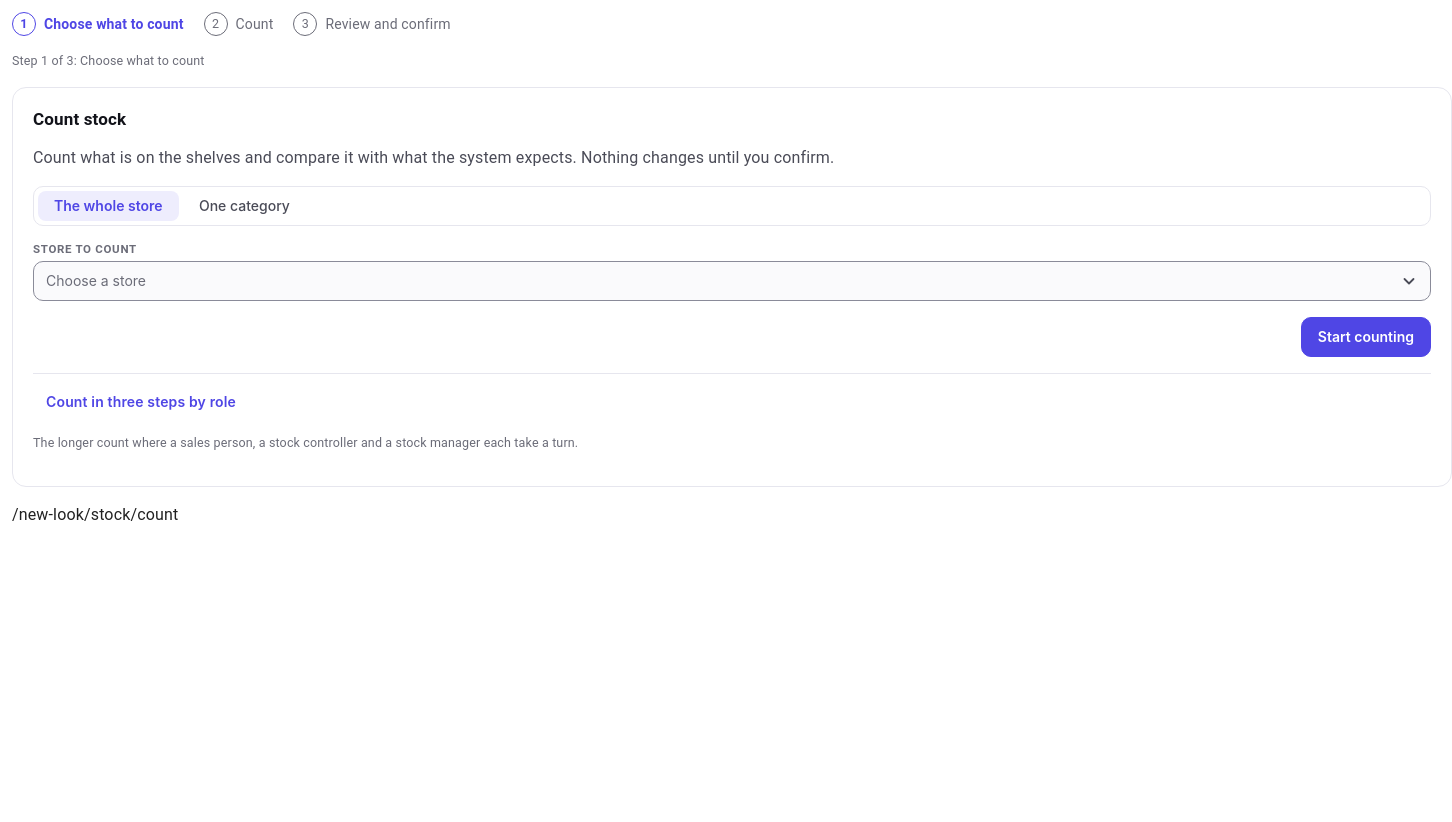
Test case: step 1: what to count › with two stores the store to count must be chosen
Click the button "Start counting": (1366, 337) [1301, 317, 1431, 357]
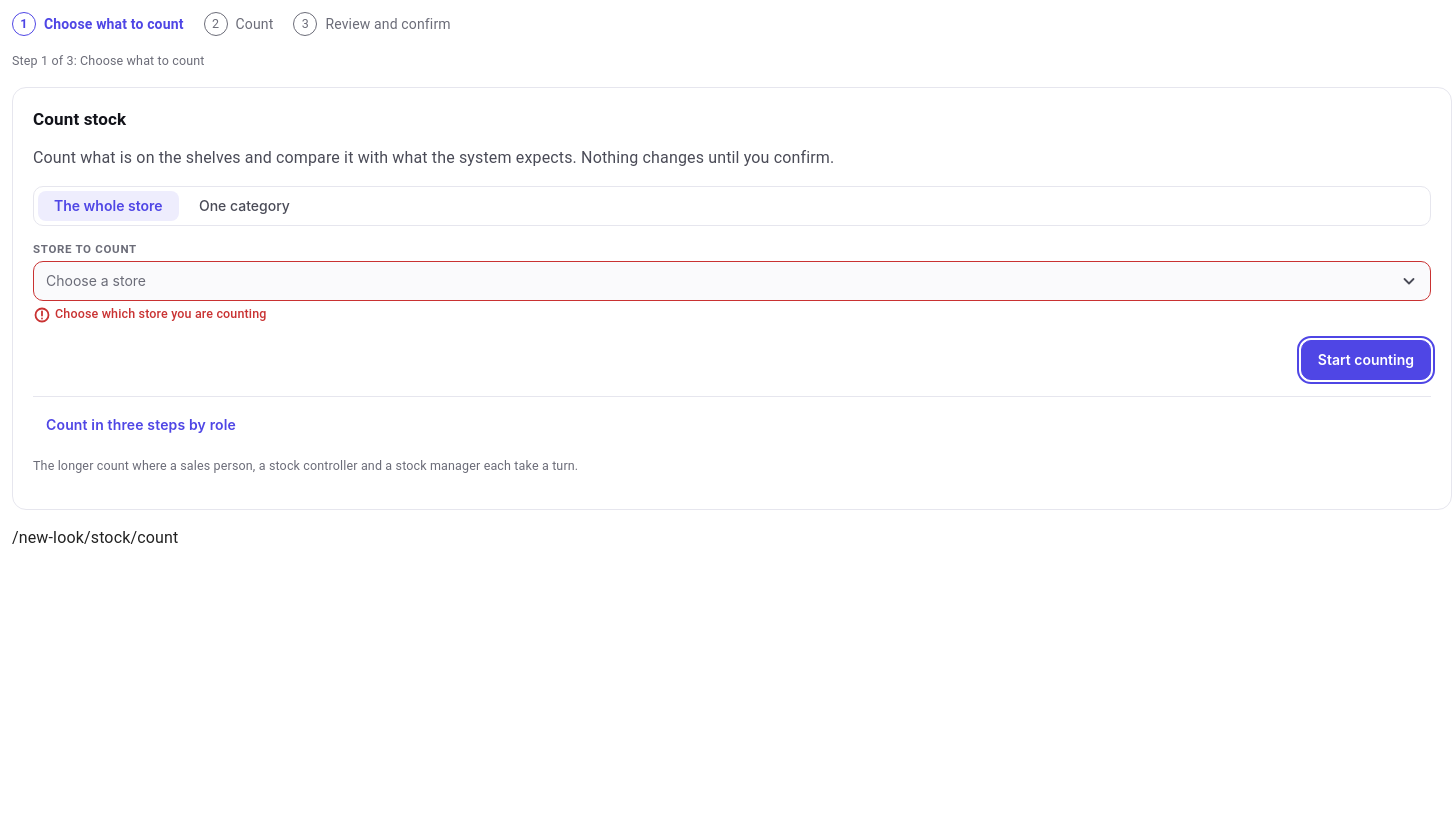
Click the dropdown named "Store to count": (96, 281) [33, 261, 1431, 301]
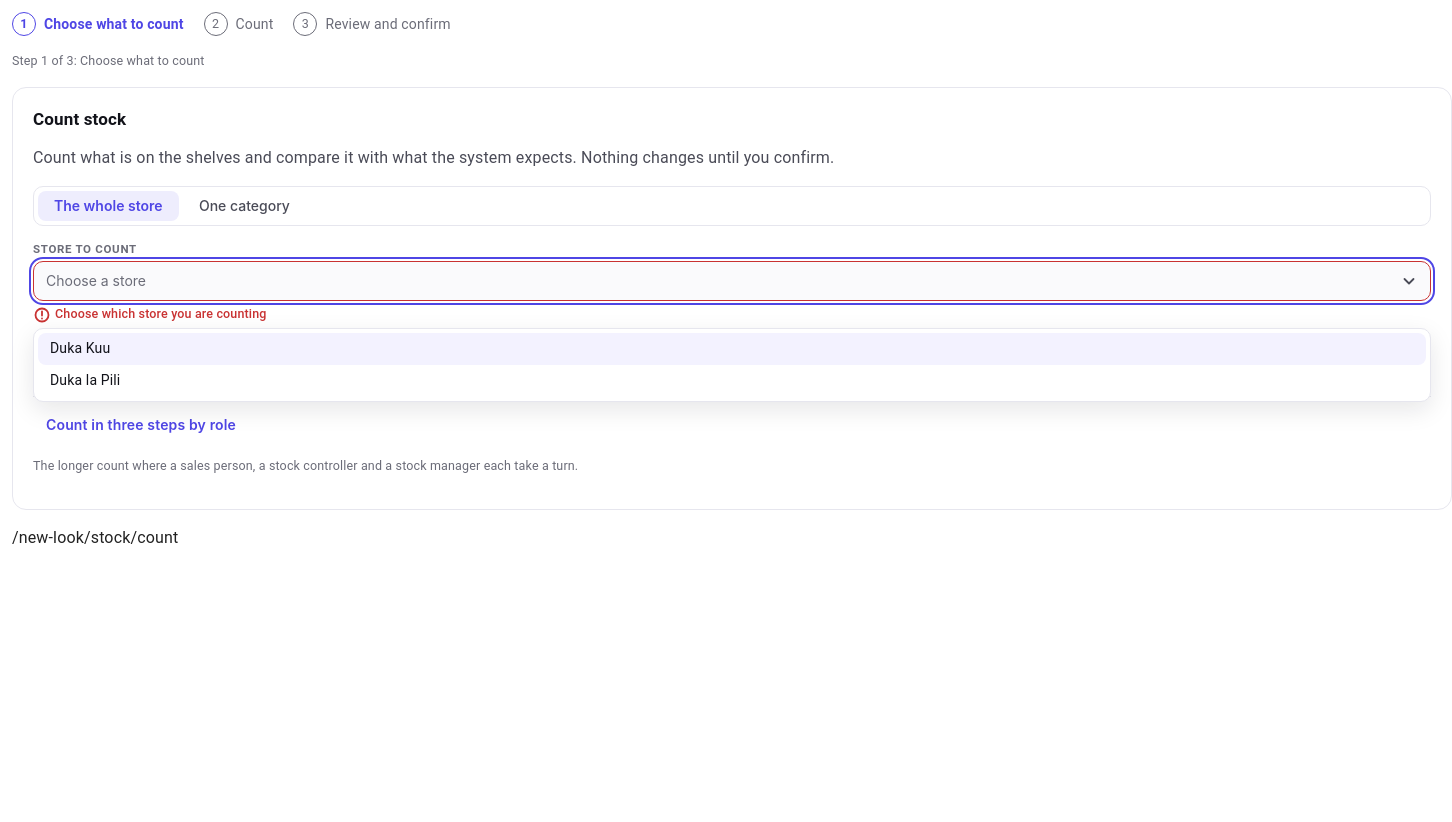
Click the option "Duka la Pili": (85, 380) [50, 372, 120, 388]
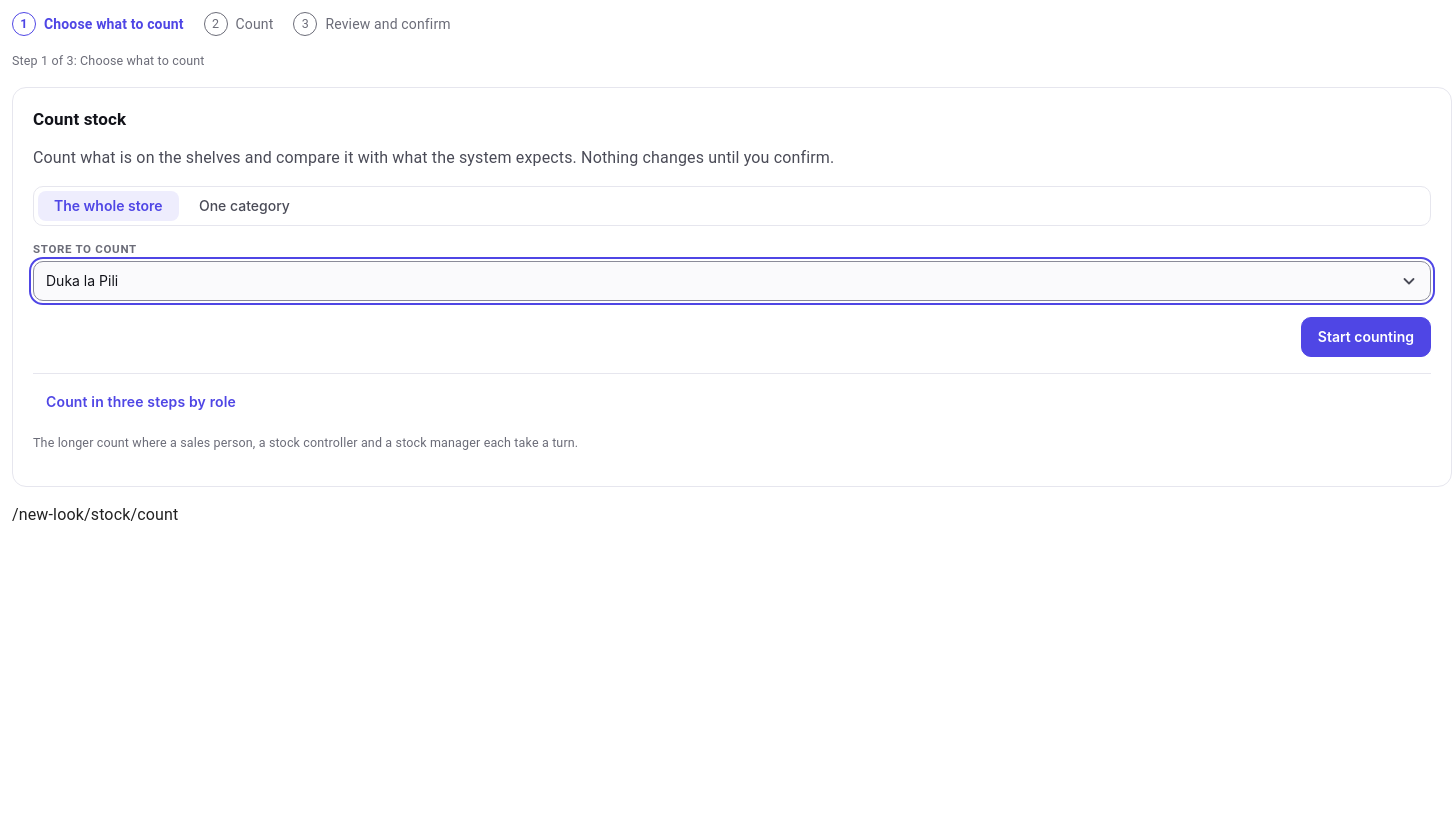
Click the button "Start counting": (1366, 337) [1301, 317, 1431, 357]
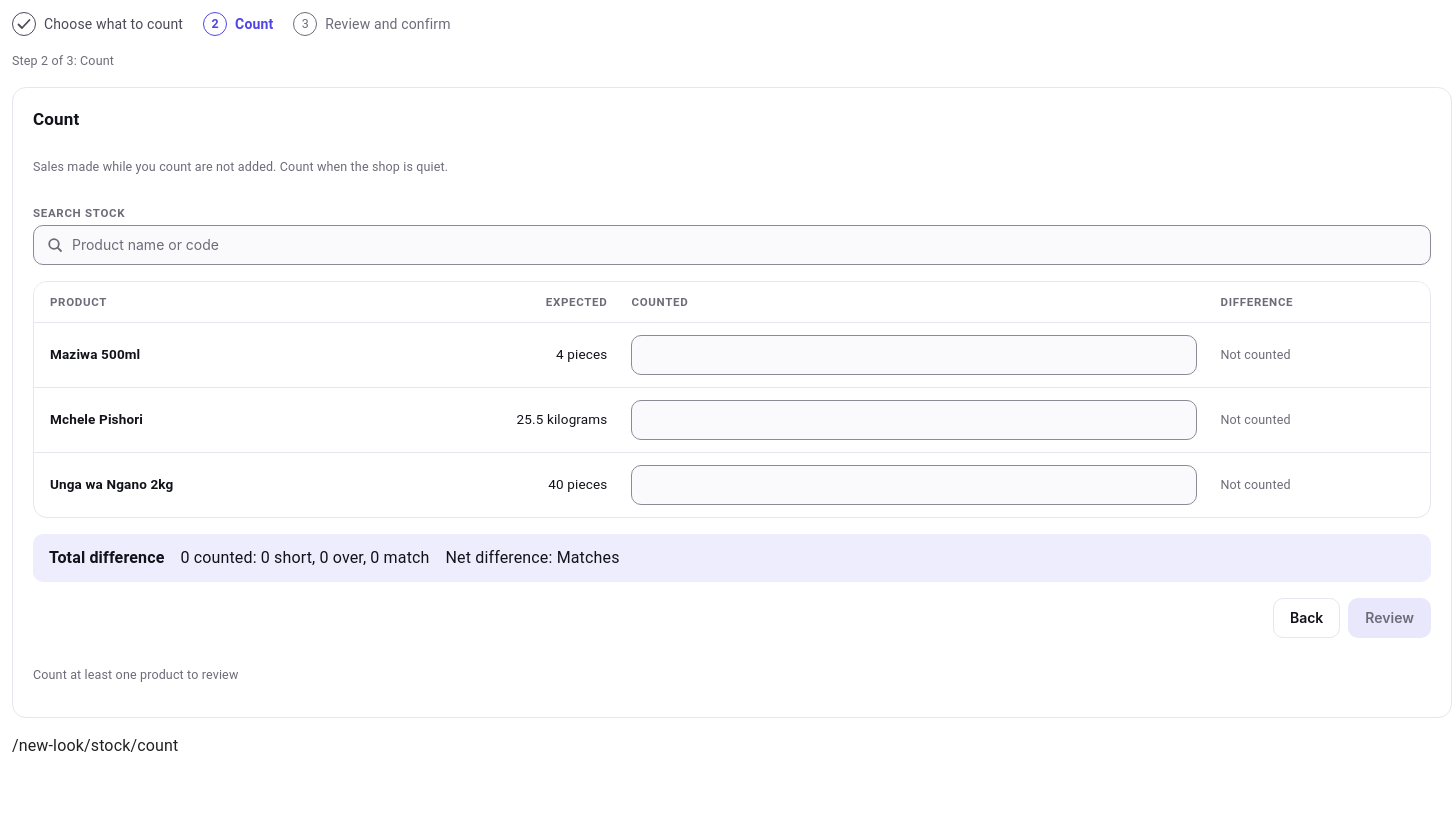
Check: the field named "Counted: Maziwa 500ml" in the row of "Maziwa 500ml" is shown, box [632, 336, 1196, 374]
